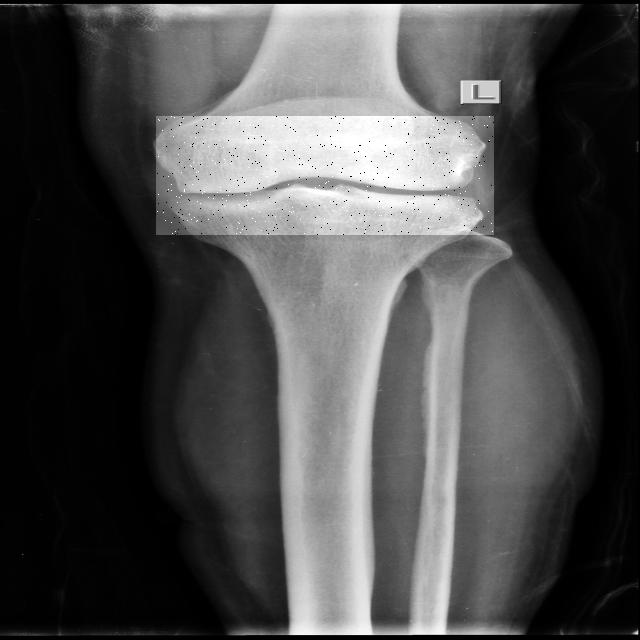normal: (156, 116, 494, 235)
